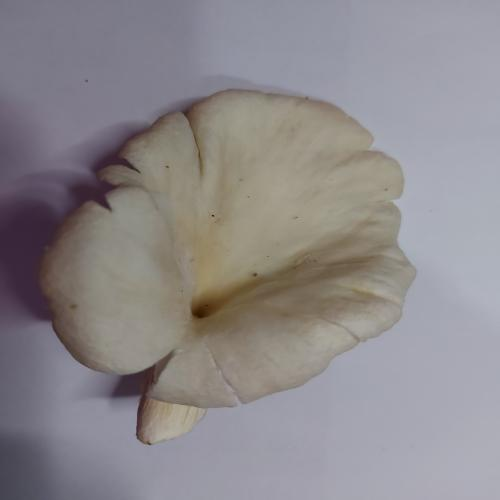Oyster Mushroom: (38, 87, 418, 445)
